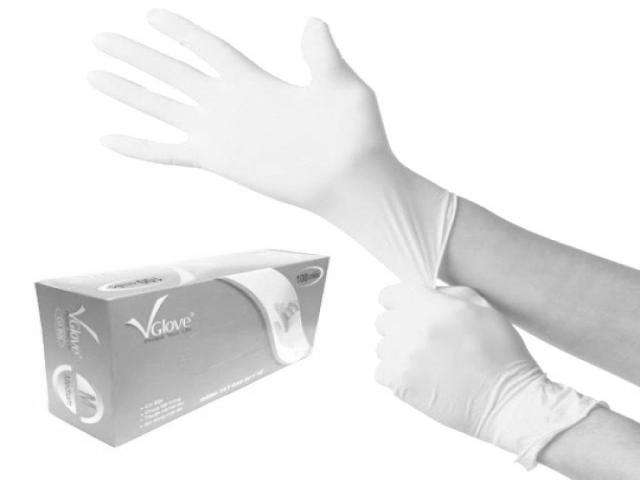gloved: (84, 8, 407, 207), (372, 284, 528, 413)
